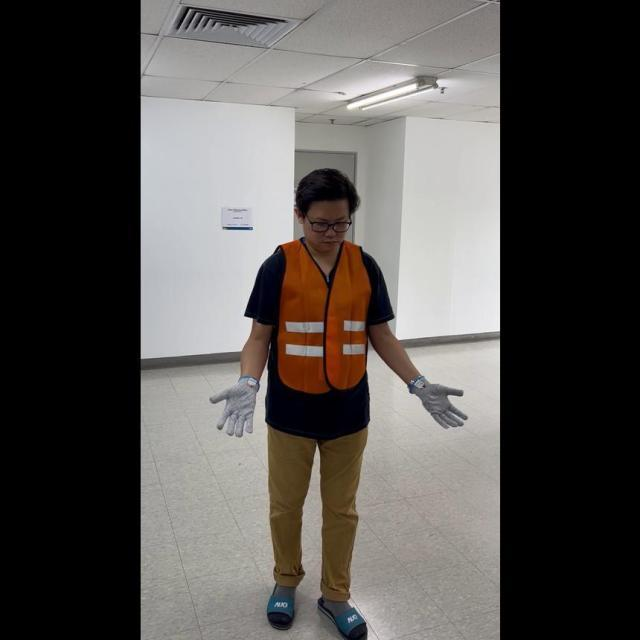gloved_hand: (405, 371, 467, 430), (211, 371, 261, 435)
